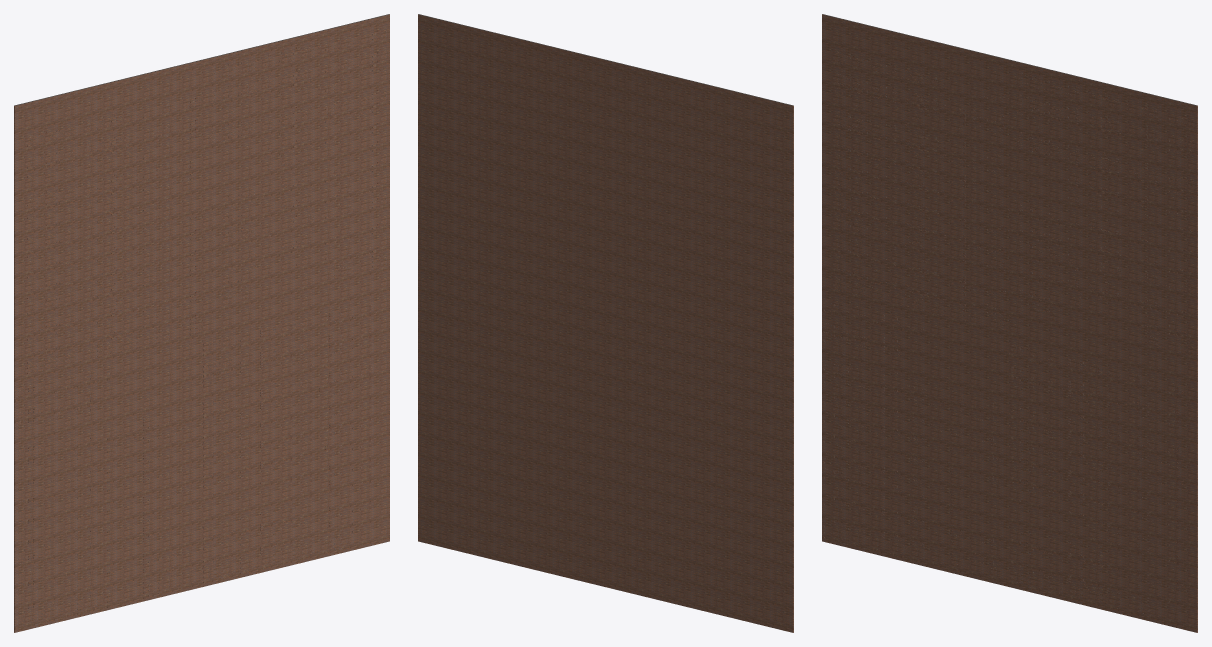
The model's file is Tutorial_Model_Structure_BS4Wall_4.fbx.
3 views of the same model, side by side, from view 1: azimuth 30°, elevation 25°; view 2: azimuth 150°, elevation 25°; view 3: azimuth 330°, elevation 25° (orthographic).
Visible parts, largest first — view 1: Wall_14; view 2: Wall_14; view 3: Wall_14.
Boxes of the visible parts, left/top/right/bottom form: Wall_14: left=14, top=14, right=389, bottom=632; Wall_14: left=418, top=14, right=793, bottom=632; Wall_14: left=822, top=14, right=1197, bottom=632.
Bounding box in the file's own units: 1496 × 2008 × 4.5.
1 material, 1 textured.
